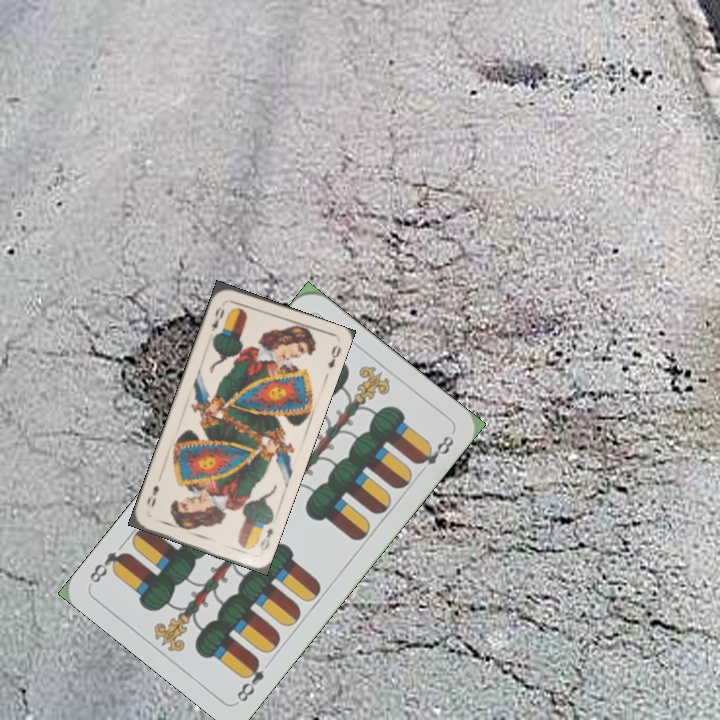E8: (232, 655, 267, 705)
EO: (207, 303, 227, 334), (256, 524, 276, 553)
